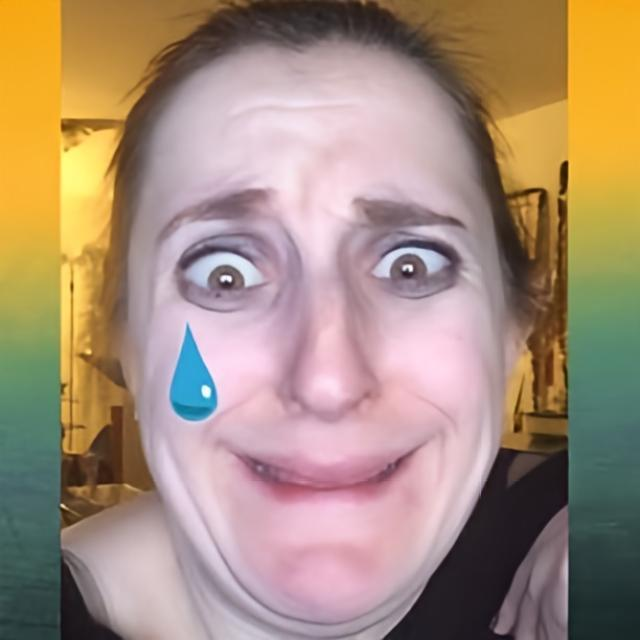fear: (122, 29, 508, 626)
